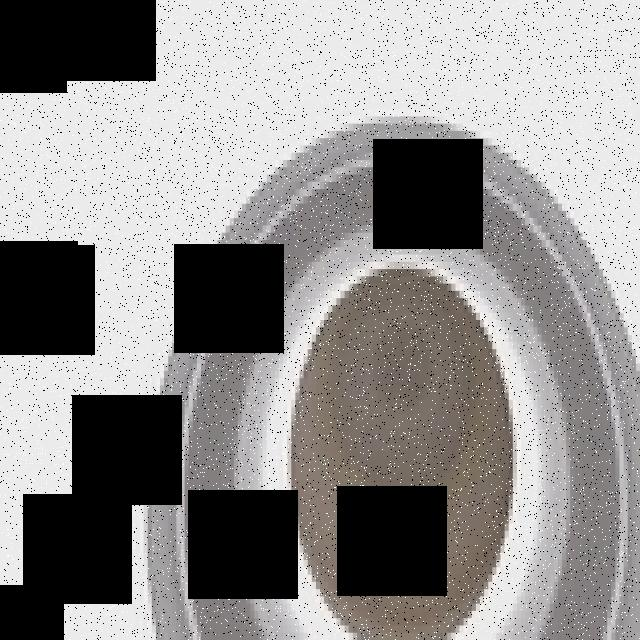Saturn: (140, 116, 640, 640)
